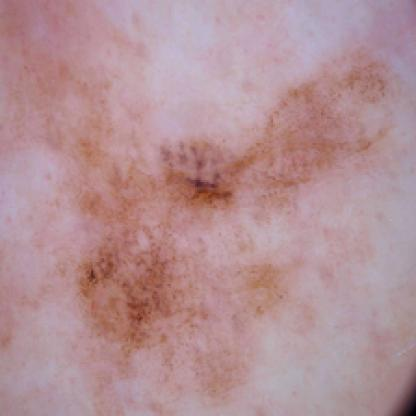Skin_Cancer-Malignant: (74, 135, 276, 381)
